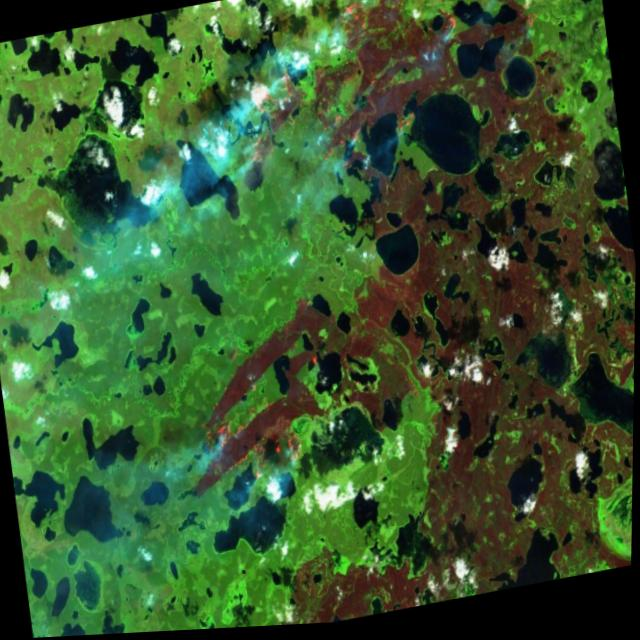fire: (215, 0, 563, 186), (177, 340, 344, 504)
